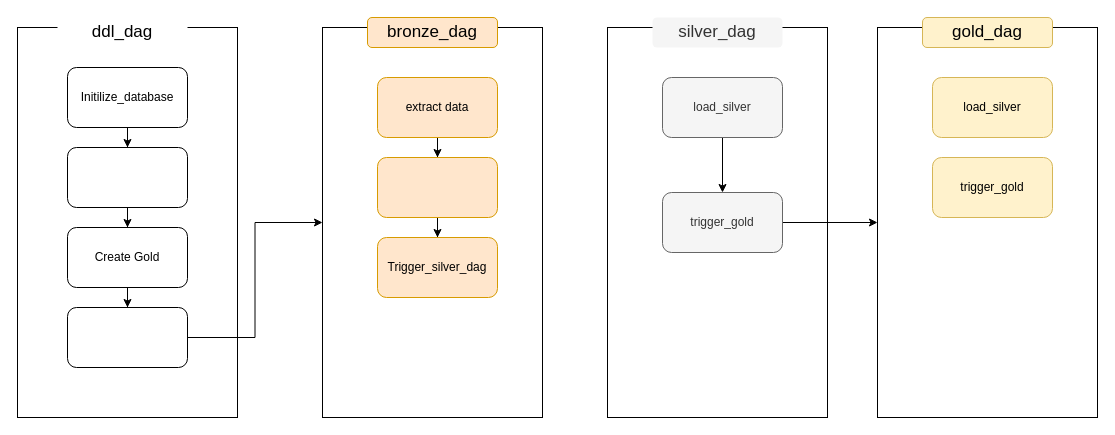
The diagram is 1115 pixels wide and 435 high, and some of its shapes have lost their labels. Here are the shapes that lost their labels. From the top down, the centre of each, then its label:
At pixel 127 177: "Create Silver".
At pixel 437 187: "load data".
At pixel 127 337: "Trigger_bronze_dag".
